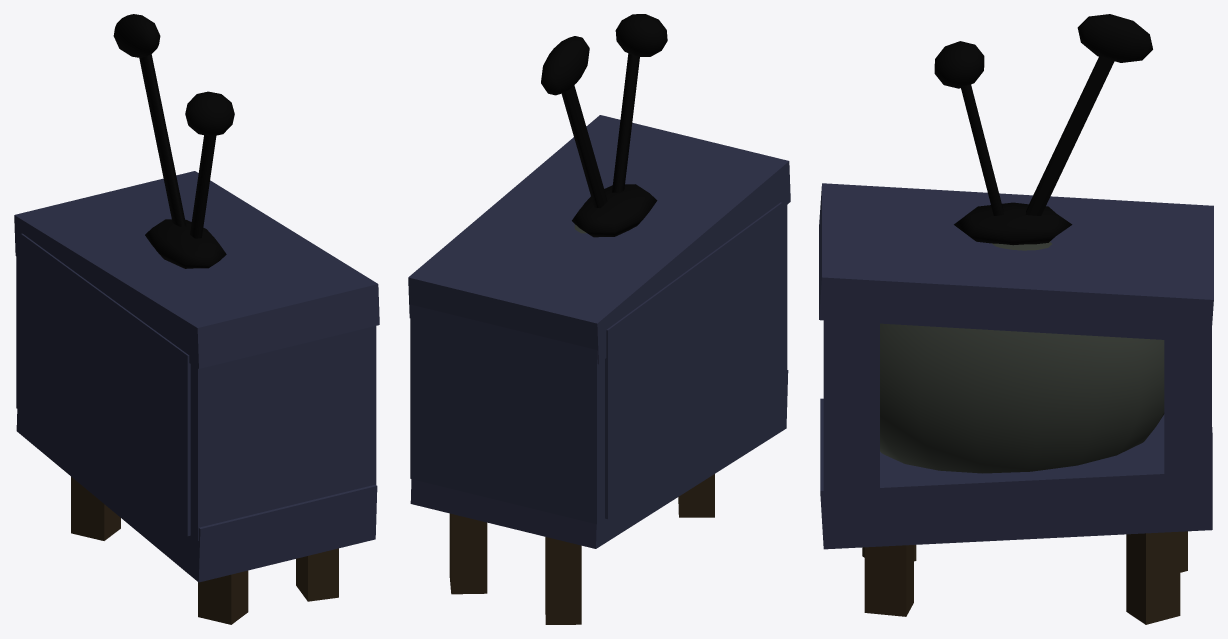
File: Television1.fbx
The picture shows the model from 3 angles, left to right: view 1: azimuth 30°, elevation 25°; view 2: azimuth 150°, elevation 25°; view 3: azimuth 270°, elevation 25°; orthographic projection. The views are drawn at different scales.
Parts seen in each view (by area): view 1: Cube, Cube.004, Cube.002, Cube.001, Cube.011, Cube.010, Cube.007, Cube.008, Cube.005, Icosphere, Icosphere.001, Cube.009 (+1 smaller); view 2: Cube, Cube.003, Cube.004, Cube.001, Cube.008, Cube.006, Cube.011, Icosphere.001, Cube.010, Icosphere, Cube.009, Cube.007 (+1 smaller); view 3: Cube, Sphere, Cube.001, Cube.002, Cube.003, Cube.006, Cube.005, Cube.011, Cube.010, Icosphere.001, Icosphere, Cube.009.
Part boxes in pixels (left/top/right/bottom): Cube: left=14, top=171, right=379, bottom=368; Cube.004: left=21, top=233, right=190, bottom=535; Cube.002: left=190, top=326, right=376, bottom=540; Cube.001: left=16, top=409, right=377, bottom=582; Cube.011: left=145, top=219, right=226, bottom=268; Cube.010: left=139, top=54, right=186, bottom=226; Cube.007: left=198, top=570, right=248, bottom=624; Cube.008: left=71, top=476, right=120, bottom=540; Cube.005: left=296, top=548, right=338, bottom=601; Icosphere: left=185, top=91, right=234, bottom=136; Icosphere.001: left=113, top=14, right=160, bottom=57; Cube.009: left=190, top=135, right=216, bottom=238; Cube: left=408, top=115, right=790, bottom=364; Cube.003: left=410, top=304, right=604, bottom=524; Cube.004: left=605, top=202, right=782, bottom=519; Cube.001: left=410, top=370, right=788, bottom=548; Cube.008: left=545, top=537, right=581, bottom=624; Cube.006: left=449, top=513, right=487, bottom=594; Cube.011: left=572, top=184, right=657, bottom=237; Icosphere.001: left=541, top=36, right=589, bottom=95; Cube.010: left=561, top=85, right=607, bottom=208; Icosphere: left=615, top=14, right=667, bottom=57; Cube.009: left=612, top=53, right=639, bottom=192; Cube.007: left=678, top=474, right=714, bottom=517; Cube: left=819, top=183, right=1213, bottom=342; Sphere: left=880, top=242, right=1164, bottom=473; Cube.001: left=820, top=398, right=1212, bottom=549; Cube.002: left=823, top=320, right=879, bottom=505; Cube.003: left=1164, top=330, right=1211, bottom=505; Cube.006: left=1126, top=531, right=1180, bottom=624; Cube.005: left=864, top=545, right=913, bottom=616; Cube.011: left=954, top=202, right=1072, bottom=245; Cube.010: left=1025, top=57, right=1114, bottom=215; Icosphere.001: left=1077, top=14, right=1152, bottom=62; Icosphere: left=934, top=41, right=984, bottom=88; Cube.009: left=961, top=84, right=1003, bottom=215.
Bounding box in the file's own units: 159 × 440 × 279.
